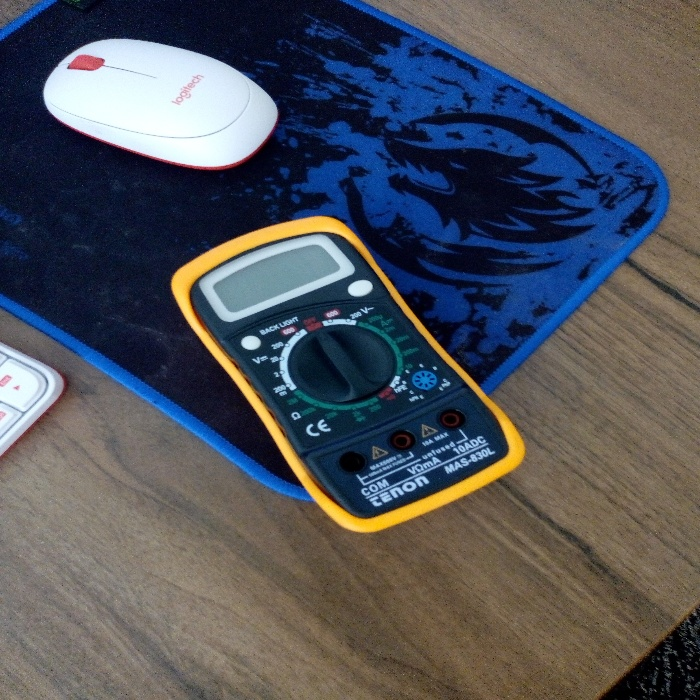multimetre: (169, 191, 535, 535)
